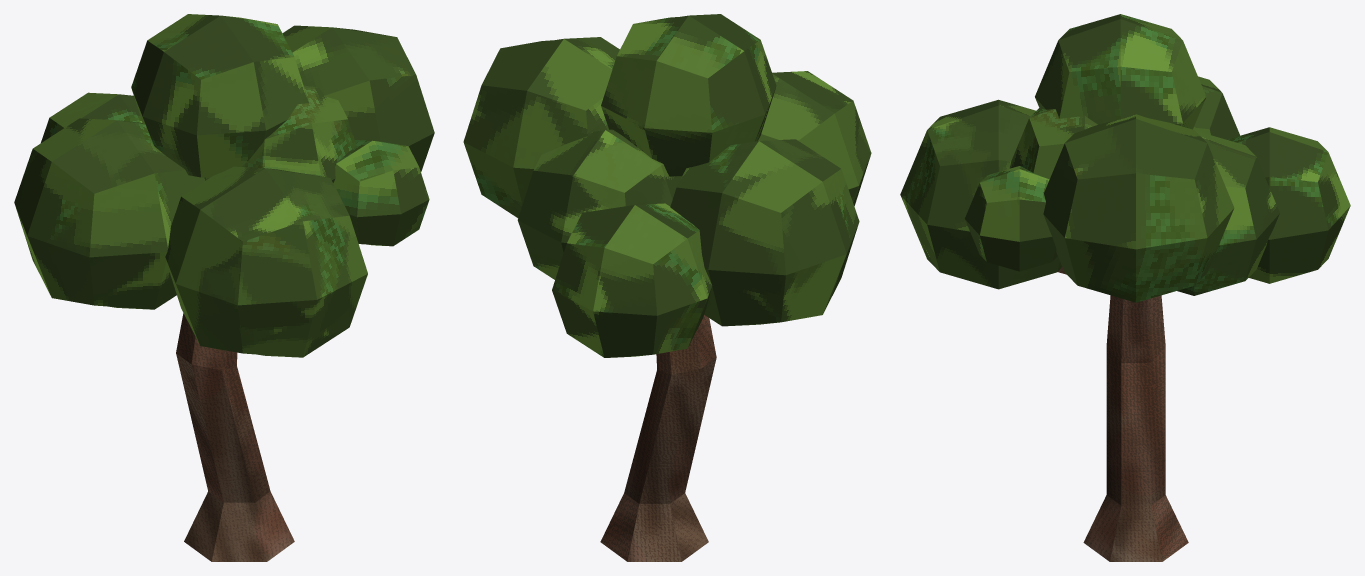
The model's file is Tree_1.glb.
3 views of the same model, side by side, from view 1: azimuth 30°, elevation 25°; view 2: azimuth 150°, elevation 25°; view 3: azimuth 270°, elevation 25° (orthographic). The views are drawn at different scales.
Parts seen in each view (by area): view 1: Cube.001, Cube.003, Cube.005, Cylinder, Cube, Cube.006, Cube.007, Cube.002; view 2: Cube.003, Cube.005, Cube.002, Cube, Cylinder, Cube.004, Cube.001; view 3: Cube, Cylinder, Cube.005, Cube.001, Cube.002, Cube.006, Cube.004, Cube.007, Cube.003.
Part boxes in pixels (x1,y1,x2,y2): Cube.001: (165, 166, 367, 357); Cube.003: (14, 118, 205, 309); Cube.005: (131, 14, 308, 177); Cylinder: (176, 313, 294, 561); Cube: (282, 25, 434, 171); Cube.006: (333, 140, 429, 246); Cube.007: (242, 85, 356, 182); Cube.002: (41, 92, 142, 142); Cube.003: (670, 139, 859, 326); Cube.005: (601, 14, 776, 176); Cube.002: (552, 203, 712, 357); Cube: (463, 37, 619, 217); Cylinder: (600, 315, 716, 561); Cube.004: (517, 129, 681, 279); Cube.001: (758, 71, 871, 206); Cube: (1043, 114, 1234, 302); Cylinder: (1083, 295, 1188, 561); Cube.005: (1035, 14, 1206, 129); Cube.001: (900, 99, 1061, 289); Cube.002: (1228, 127, 1350, 283); Cube.006: (965, 166, 1057, 271); Cube.004: (1177, 130, 1279, 295); Cube.007: (1009, 108, 1097, 178); Cube.003: (1193, 76, 1239, 139).
Size of the model in its own units: 8.04 by 10.71 by 8.55.
Materials: 2 (2 with a texture image).
